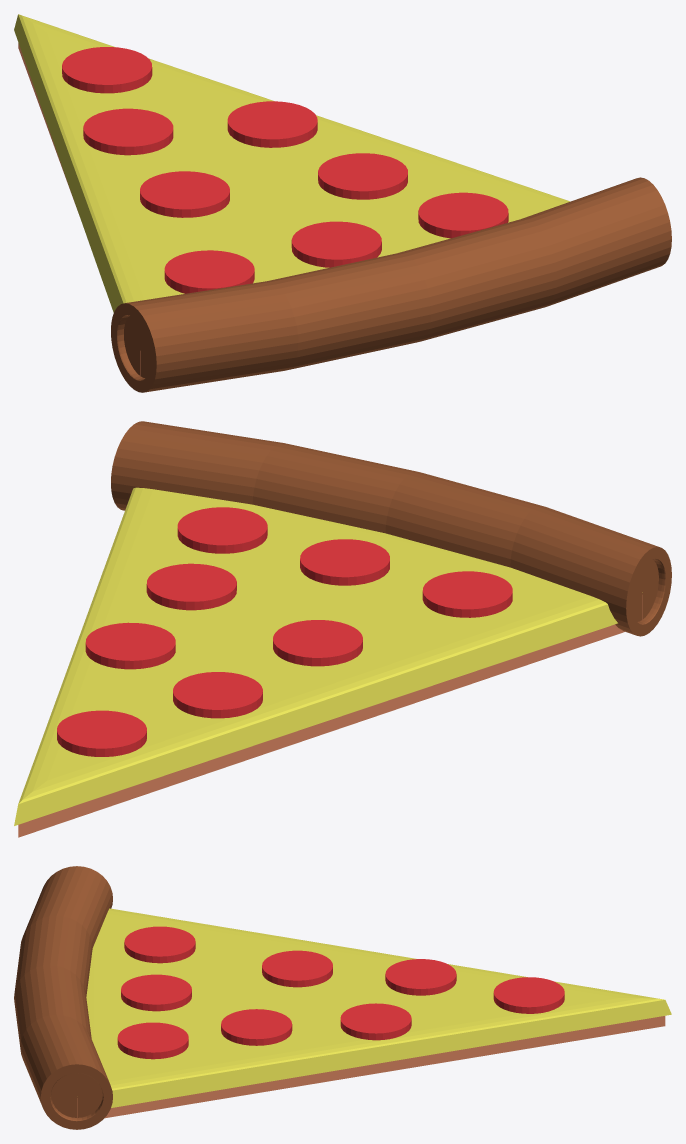
Rendered from Pizza.fbx.
3 views of the same model, one above another, from view 1: azimuth 30°, elevation 25°; view 2: azimuth 150°, elevation 25°; view 3: azimuth 270°, elevation 25° (orthographic). The views are drawn at different scales.
Parts seen in each view (by area): view 1: Cylinder, Cube.001, Cylinder.005, Cylinder.006, Cylinder.007, Cylinder.001, Cylinder.003, Cylinder.008, Cylinder.004, Cylinder.002; view 2: Cube.001, Cylinder, Cube, Cylinder.004, Cylinder.001, Cylinder.002, Cylinder.005, Cylinder.003, Cylinder.006, Cylinder.007, Cylinder.008; view 3: Cube.001, Cylinder, Cube, Cylinder.005, Cylinder.002, Cylinder.007, Cylinder.004, Cylinder.001, Cylinder.006, Cylinder.008, Cylinder.003.
Boxes of the visible parts, left/top/right/bottom form: Cylinder: left=111, top=177, right=671, bottom=392; Cube.001: left=14, top=14, right=569, bottom=312; Cylinder.005: left=227, top=101, right=317, bottom=147; Cylinder.006: left=83, top=108, right=173, bottom=155; Cylinder.007: left=62, top=47, right=152, bottom=93; Cylinder.001: left=318, top=153, right=407, bottom=199; Cylinder.003: left=140, top=171, right=229, bottom=217; Cylinder.008: left=291, top=221, right=381, bottom=267; Cylinder.004: left=418, top=192, right=508, bottom=238; Cylinder.002: left=164, top=250, right=254, bottom=293; Cube.001: left=14, top=487, right=642, bottom=825; Cylinder: left=111, top=421, right=671, bottom=636; Cube: left=18, top=595, right=642, bottom=837; Cylinder.004: left=177, top=507, right=267, bottom=553; Cylinder.001: left=146, top=563, right=236, bottom=610; Cylinder.002: left=422, top=571, right=512, bottom=617; Cylinder.005: left=85, top=622, right=175, bottom=669; Cylinder.003: left=273, top=620, right=362, bottom=666; Cylinder.006: left=173, top=672, right=262, bottom=718; Cylinder.007: left=57, top=710, right=146, bottom=756; Cylinder.008: left=300, top=539, right=389, bottom=585; Cube.001: left=86, top=908, right=671, bottom=1107; Cylinder: left=14, top=866, right=112, bottom=1129; Cube: left=77, top=1016, right=665, bottom=1118; Cylinder.005: left=340, top=1003, right=411, bottom=1040; Cylinder.002: left=124, top=926, right=195, bottom=963; Cylinder.007: left=493, top=977, right=564, bottom=1013; Cylinder.004: left=117, top=1022, right=188, bottom=1059; Cylinder.001: left=221, top=1009, right=292, bottom=1045; Cylinder.006: left=385, top=959, right=456, bottom=995; Cylinder.008: left=121, top=974, right=191, bottom=1011; Cylinder.003: left=262, top=950, right=332, bottom=987.
Size of the model in its own units: 225 by 34.65 by 315.
